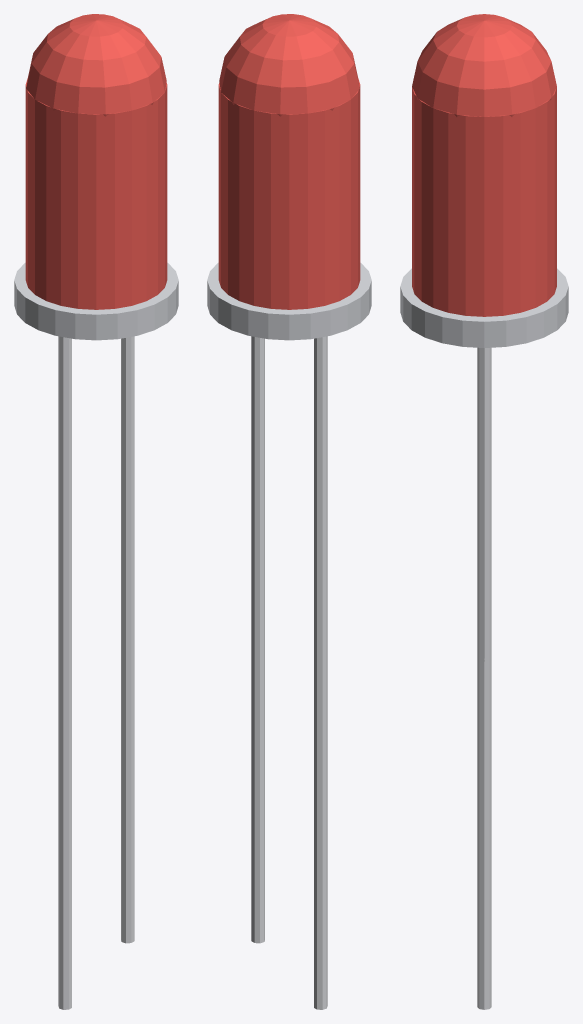
Rendered from led-5mm.glb.
The picture shows the model from 3 angles, left to right: view 1: azimuth 30°, elevation 25°; view 2: azimuth 150°, elevation 25°; view 3: azimuth 270°, elevation 25°; orthographic projection. The views are drawn at different scales.
Parts seen in each view (by area): view 1: led-5mm_body, led-5mm, led-5mm_dome, led-5mm_rim; view 2: led-5mm_body, led-5mm, led-5mm_dome, led-5mm_rim; view 3: led-5mm_body, led-5mm_dome, led-5mm, led-5mm_rim.
Part boxes in pixels (bbox=[...]): led-5mm_body: bbox=[25, 78, 167, 309]; led-5mm: bbox=[58, 336, 134, 1009]; led-5mm_dome: bbox=[26, 14, 166, 116]; led-5mm_rim: bbox=[14, 262, 178, 340]; led-5mm_body: bbox=[218, 78, 360, 309]; led-5mm: bbox=[251, 336, 327, 1009]; led-5mm_dome: bbox=[219, 14, 359, 116]; led-5mm_rim: bbox=[207, 262, 371, 340]; led-5mm_body: bbox=[412, 87, 556, 316]; led-5mm_dome: bbox=[412, 14, 556, 116]; led-5mm: bbox=[477, 347, 491, 1009]; led-5mm_rim: bbox=[400, 268, 568, 347].
Bounding box in the file's own units: 0.0058 × 0.0381 × 0.0058.
